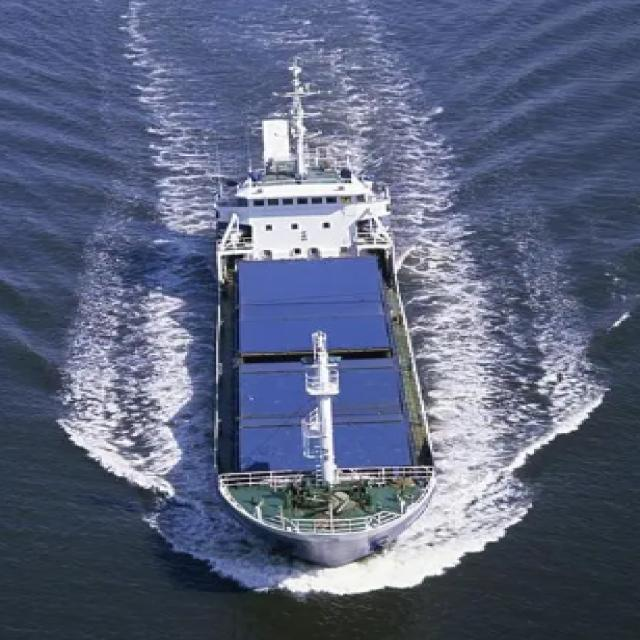cargoship: (200, 101, 461, 551)
